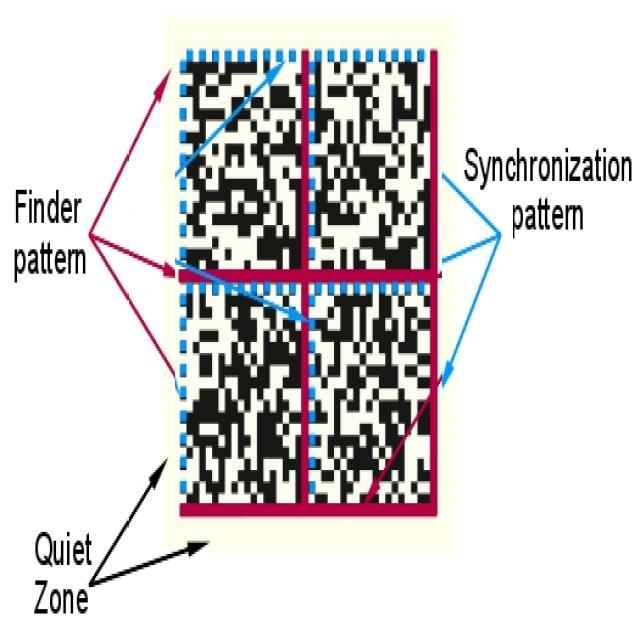Data-Matrix: (176, 40, 444, 525)
